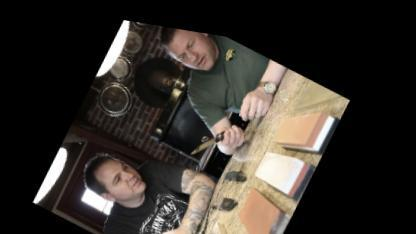knife: (186, 101, 242, 165)
